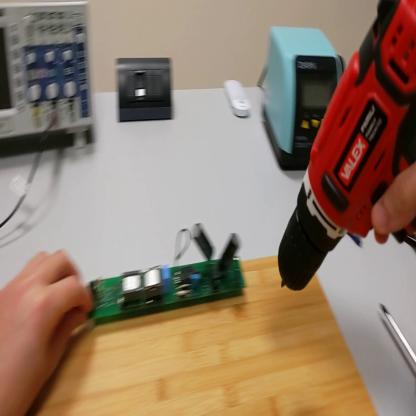electric screwdriver: (271, 2, 416, 297)
hand: (3, 250, 92, 407), (372, 162, 416, 244)
high voltage board: (95, 220, 255, 320)
oscilloscope: (2, 5, 95, 165)
screwdriver-: (380, 305, 416, 365)
welder station: (263, 27, 344, 175)
working area: (41, 258, 379, 416)
